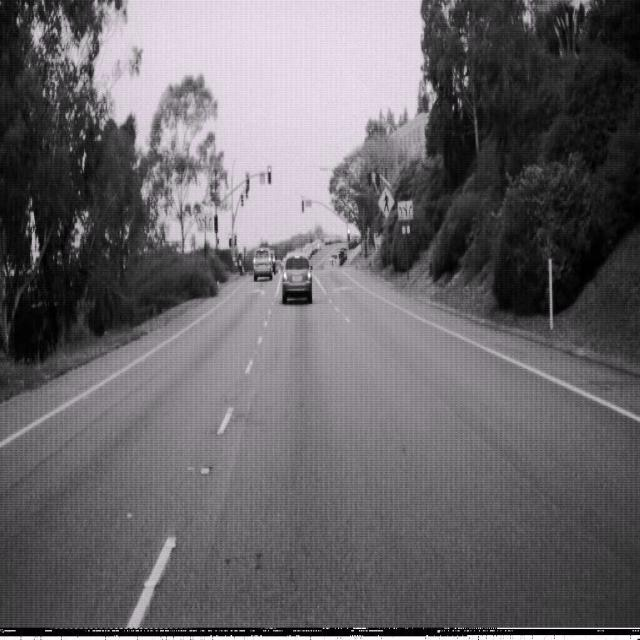pedestrianCrossing: (377, 184, 395, 219)
